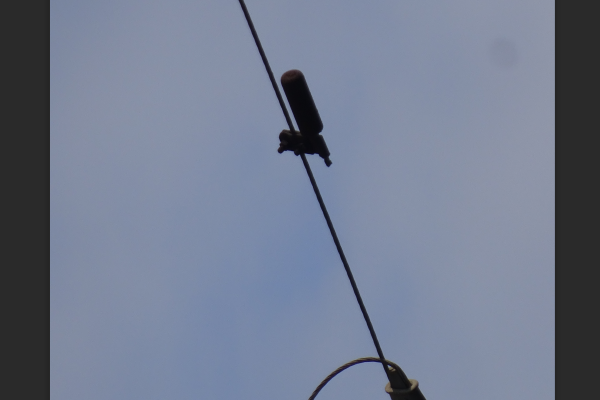damper_defect: (271, 66, 333, 173)
